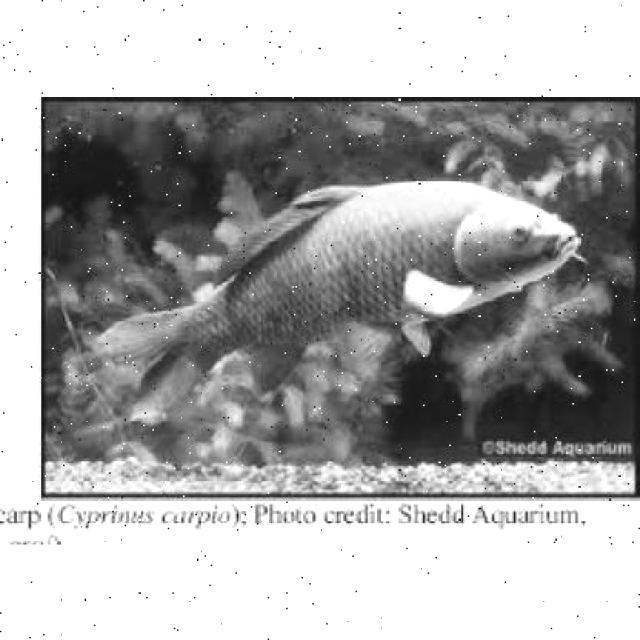ikan-mas: (104, 176, 578, 415)
